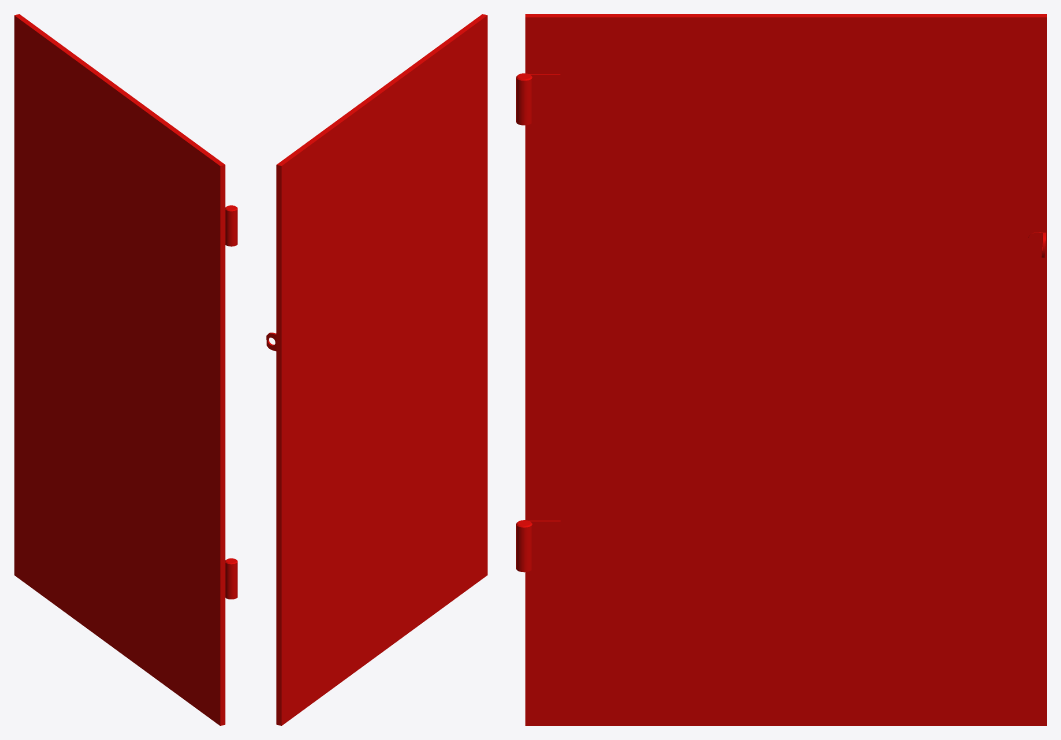
File: GDoorL.fbx
The picture shows the model from 3 angles, left to right: view 1: azimuth 30°, elevation 25°; view 2: azimuth 150°, elevation 25°; view 3: azimuth 270°, elevation 25°; orthographic projection. The views are drawn at different scales.
Parts seen in each view (by area): view 1: Cube.005; view 2: Cube.005; view 3: Cube.005.
Part boxes in pixels (left/top/right/bottom): Cube.005: left=14, top=14, right=237, bottom=725; Cube.005: left=266, top=14, right=487, bottom=725; Cube.005: left=516, top=14, right=1046, bottom=725.
Bounding box in the file's own units: 12.05 × 396 × 268.
